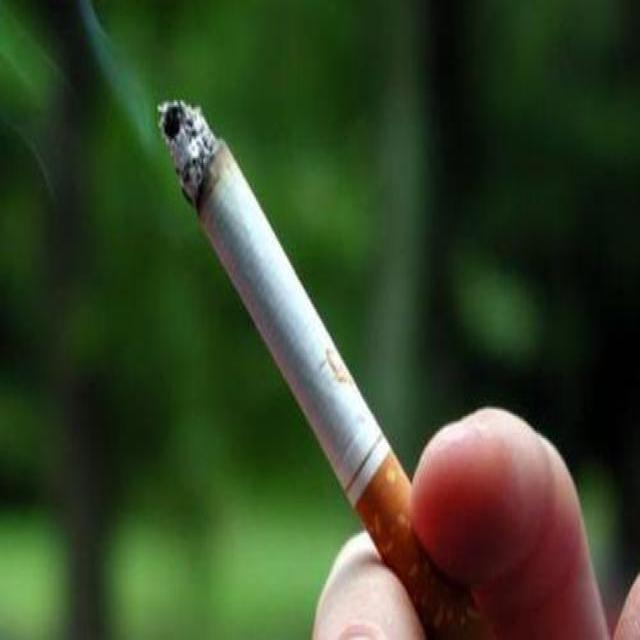smoking: (157, 99, 508, 576)
